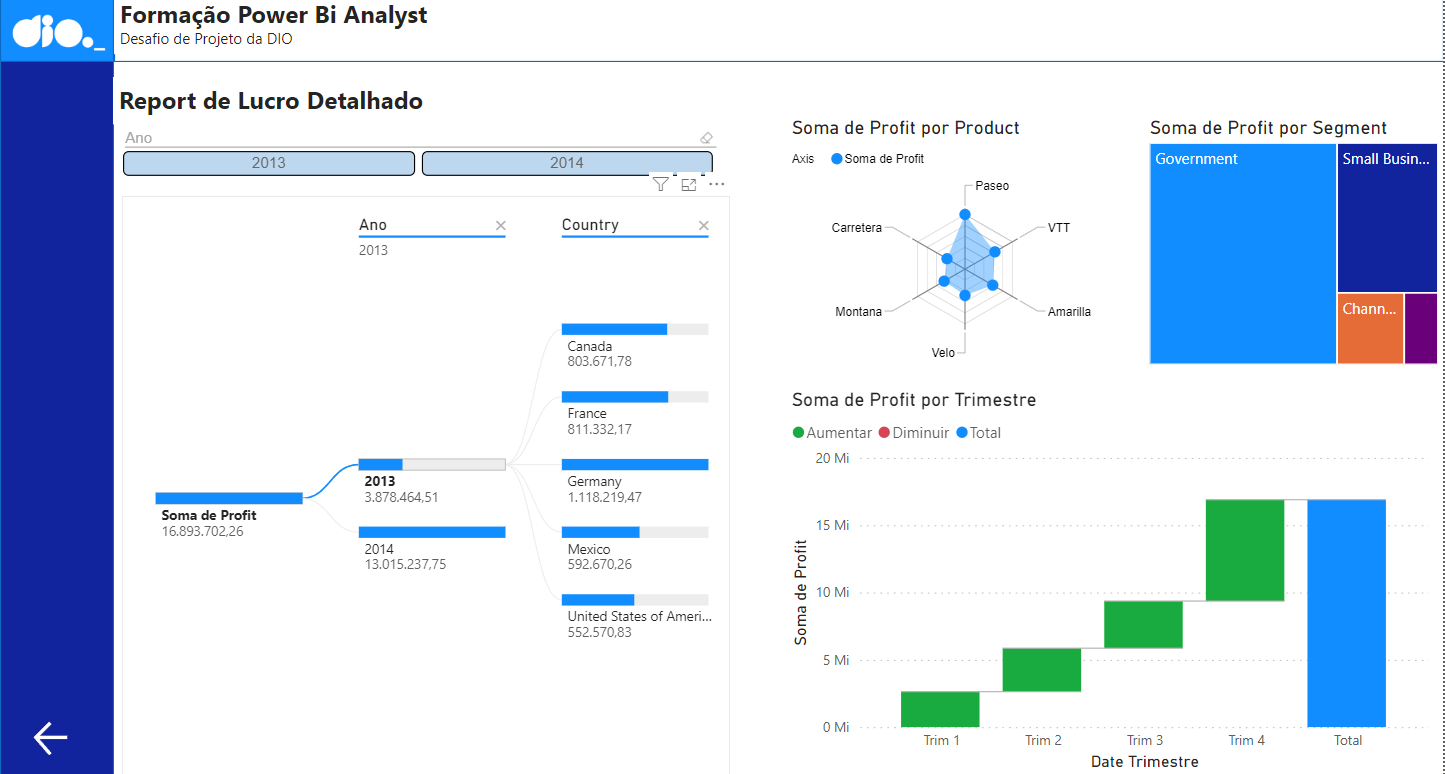

What the dashboard file says about the page in this screenshot:
{"tool":"powerbi","page":{"name":"Página 2","canvas":[1280,720],"ordinal":1},"visuals":[{"type":"shape","box":[0,0,101.1,720],"z":0},{"type":"shape","box":[0,12.4,101.1,74.5],"z":1000},{"type":"image","title":"logo_dio","box":[5.8,24.1,91.7,73.4],"z":2000},{"type":"shape","box":[101.1,0,1179.3,86.9],"z":3000},{"type":"textbox","box":[101.1,23.9,863.6,55.9],"z":4000},{"type":"actionButton","box":[25.7,666.8,71.8,39.9],"z":5000},{"type":"textbox","box":[100.2,100.2,446,41.7],"z":6000},{"type":"ChicletSlicer1448559807354","fields":{"Category":["financials.Date.Variation.Hierarquia de datas.Ano"]},"box":[101.1,141.9,539.1,63.8],"z":7000},{"type":"RadarChart1446119667547","fields":{"Category":["financials.Product"],"Y":["Sum(financials.Profit)"]},"box":[696.9,134.8,317.4,225.2],"z":8000},{"type":"decompositionTreeVisual","fields":{"Analyze":["Sum(financials.Profit)"],"ExplainBy":["financials.Date.Variation.Hierarquia de datas.Ano","financials.Country"]},"box":[108.2,205.7,539.1,514.3],"z":9000},{"type":"waterfallChart","fields":{"Category":["financials.Date.Variation.Hierarquia de datas.Trimestre"],"Y":["Sum(financials.Profit)"]},"box":[696.9,376,575.5,344],"z":10000},{"type":"treemap","fields":{"Group":["financials.Segment"],"Values":["Sum(financials.Profit)"]},"box":[1014.4,134.8,265.6,225.2],"z":11000}]}

Visuals, with their boxes on the page's 1280x720 design canvas (x1, y1, x2, y2). These are canvas units, not pixel positions in the 1445x774 screenshot, which may show the page scaled, cropped or inside an application window:
shape: bbox=(0, 0, 101, 720)
shape: bbox=(0, 12, 101, 87)
"logo_dio" image: bbox=(6, 24, 98, 98)
shape: bbox=(101, 0, 1280, 87)
textbox: bbox=(101, 24, 965, 80)
actionButton: bbox=(26, 667, 98, 707)
textbox: bbox=(100, 100, 546, 142)
ChicletSlicer1448559807354 - financials.Date.Variation.Hierarquia de datas.Ano: bbox=(101, 142, 640, 206)
RadarChart1446119667547 - financials.Product x Sum(financials.Profit): bbox=(697, 135, 1014, 360)
decompositionTreeVisual - Sum(financials.Profit) x financials.Date.Variation.Hierarquia de datas.Ano: bbox=(108, 206, 647, 720)
waterfallChart - financials.Date.Variation.Hierarquia de datas.Trimestre x Sum(financials.Profit): bbox=(697, 376, 1272, 720)
treemap - financials.Segment x Sum(financials.Profit): bbox=(1014, 135, 1280, 360)
